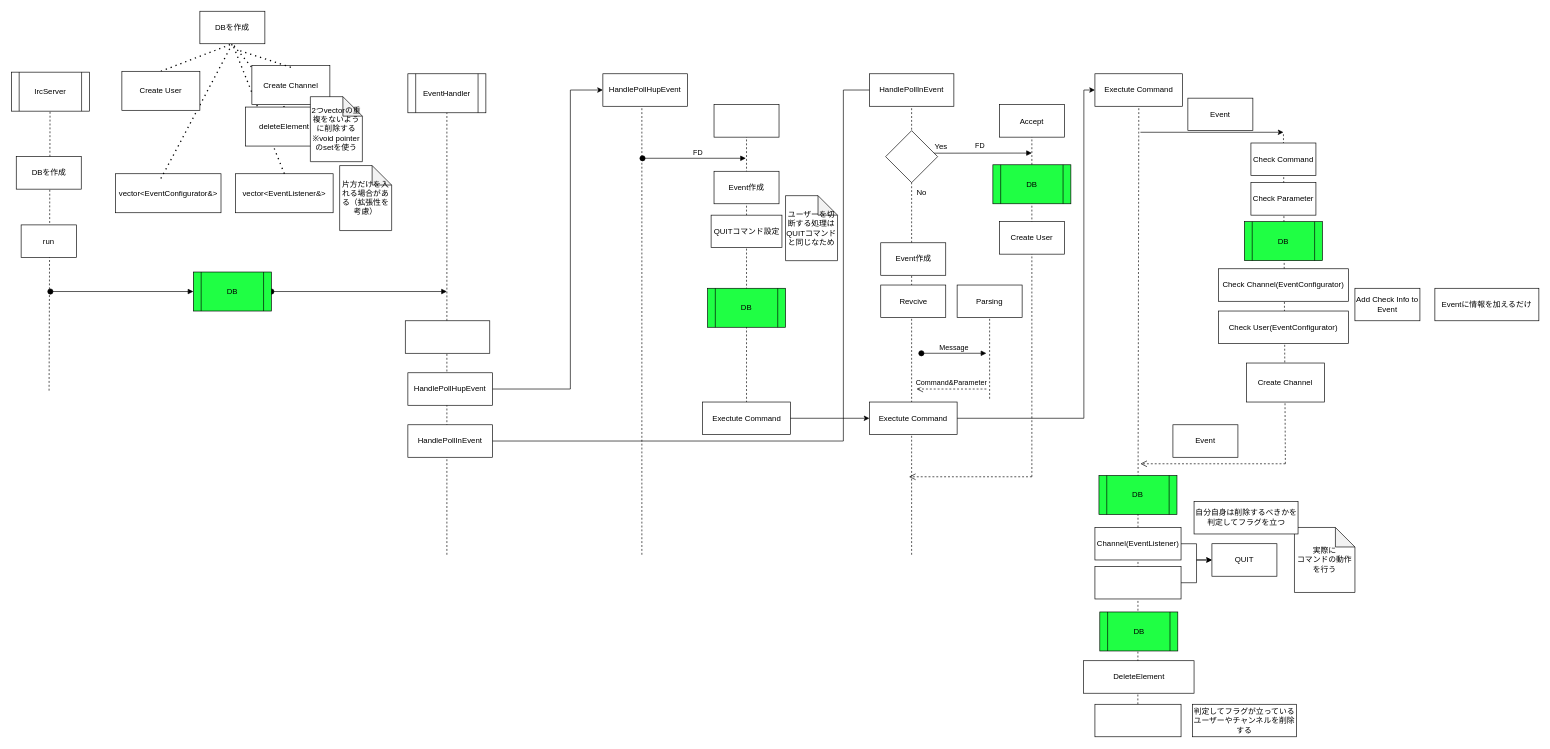
Some shapes in this 1550 by 749 pixel diagram are drawn without their labels. Each missing label, with the centre of its shape:
"Disconnect" goes at (746,120).
"HandlePollOutEvent" goes at (447,336).
"is finished" goes at (1137,720).
"is listening socket" goes at (911,156).
"User(EventListener)" goes at (1137,582).
